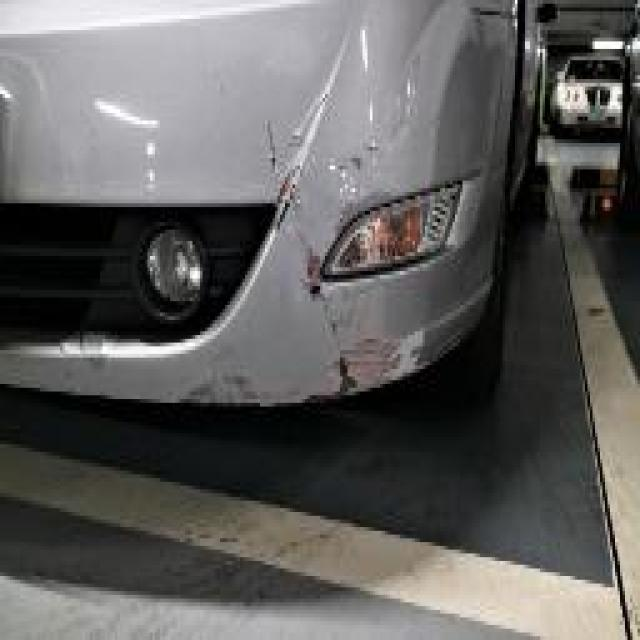Bumper: (248, 90, 462, 425)
